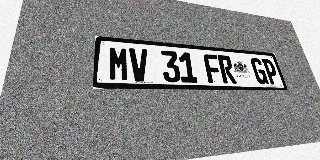1: (177, 52, 198, 83)
3: (161, 50, 181, 82)
F: (203, 54, 223, 83)
G: (250, 58, 269, 84)
M: (108, 46, 129, 81)
P: (261, 58, 280, 85)
R: (217, 55, 237, 84)
V: (129, 48, 149, 82)
